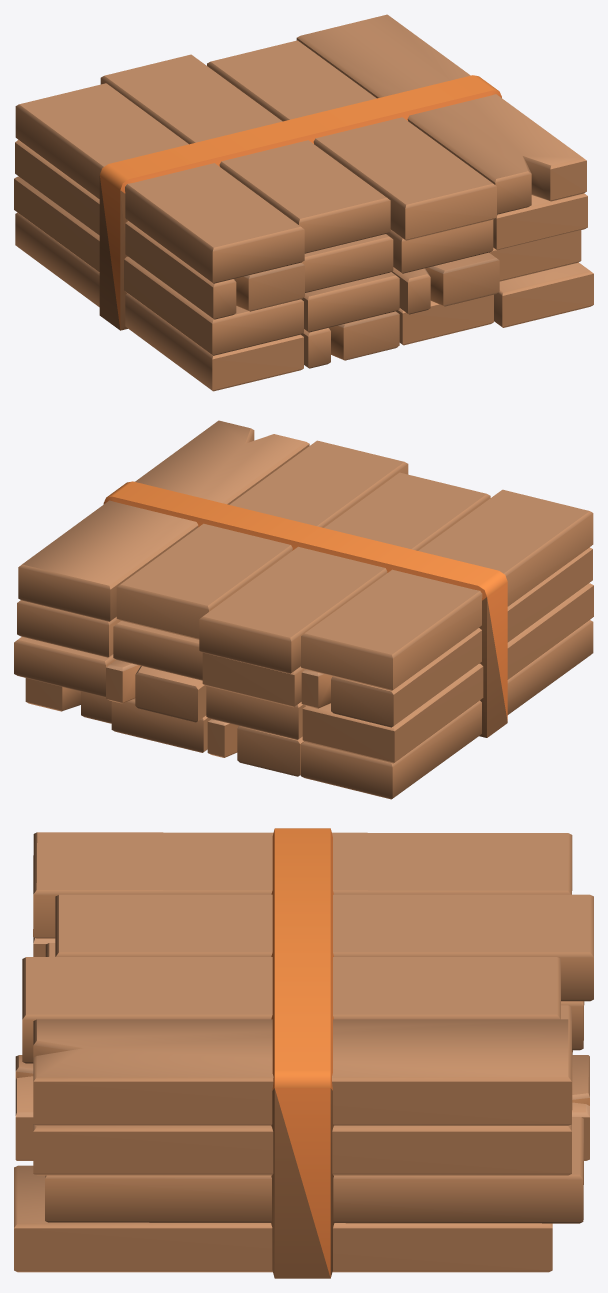
Rendered from kaykit_resource_wood_planks_stack_medium.glb.
3 renders of one model, top to bottom at view 1: azimuth 30°, elevation 25°; view 2: azimuth 150°, elevation 25°; view 3: azimuth 270°, elevation 25°, orthographic. The views are drawn at different scales.
Visible parts, largest first — view 1: wood, plaster; view 2: wood, plaster; view 3: wood, plaster.
Boxes of the visible parts, left/top/right/bottom form: wood: left=14, top=14, right=593, bottom=391; plaster: left=99, top=75, right=501, bottom=328; wood: left=14, top=420, right=593, bottom=799; plaster: left=103, top=481, right=507, bottom=720; wood: left=14, top=832, right=593, bottom=1278; plaster: left=271, top=828, right=333, bottom=1277.
Bounding box in the file's own units: 1.67 × 0.6232 × 1.62.
